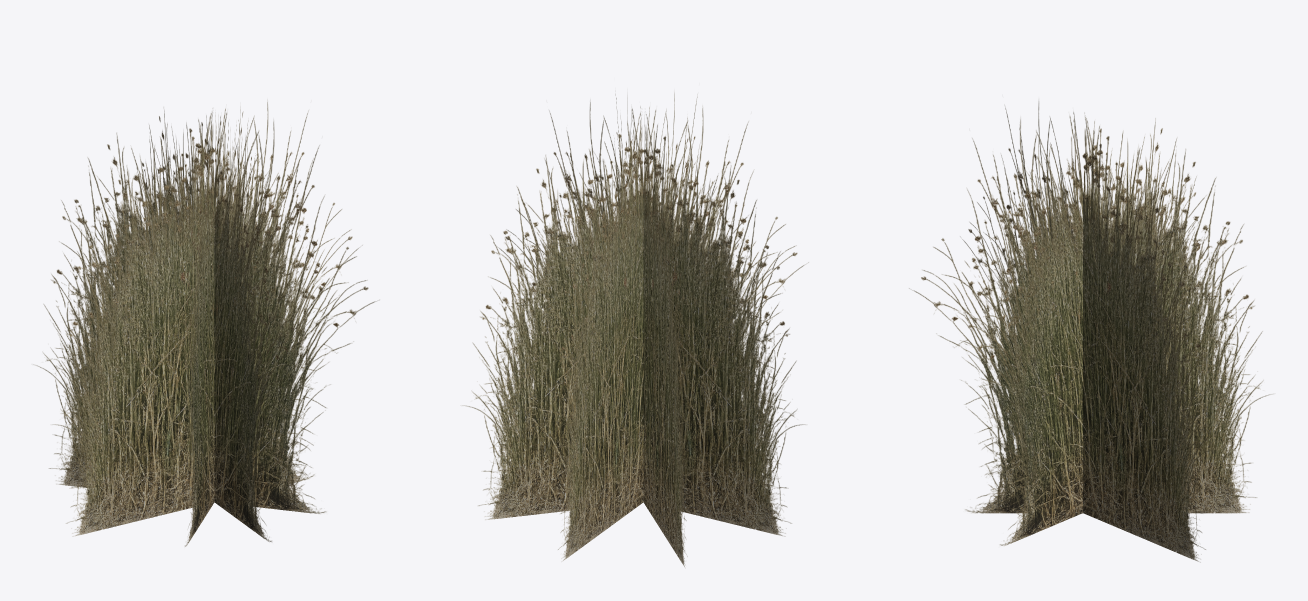
The model's file is Junco.glb.
3 renders of one model, left to right at view 1: azimuth 30°, elevation 25°; view 2: azimuth 150°, elevation 25°; view 3: azimuth 270°, elevation 25°, orthographic.
Visible parts, largest first — view 1: Junco (Schoenoplectus californicus); view 2: Junco (Schoenoplectus californicus); view 3: Junco (Schoenoplectus californicus).
Boxes of the visible parts, x1,y1,x2,y2 form: Junco (Schoenoplectus californicus): (33,102,376,546); Junco (Schoenoplectus californicus): (462,93,808,566); Junco (Schoenoplectus californicus): (909,102,1271,562).
Bounding box in the file's own units: 0.9724 × 1.13 × 1.05.
Materials: 4 (4 with a texture image).
